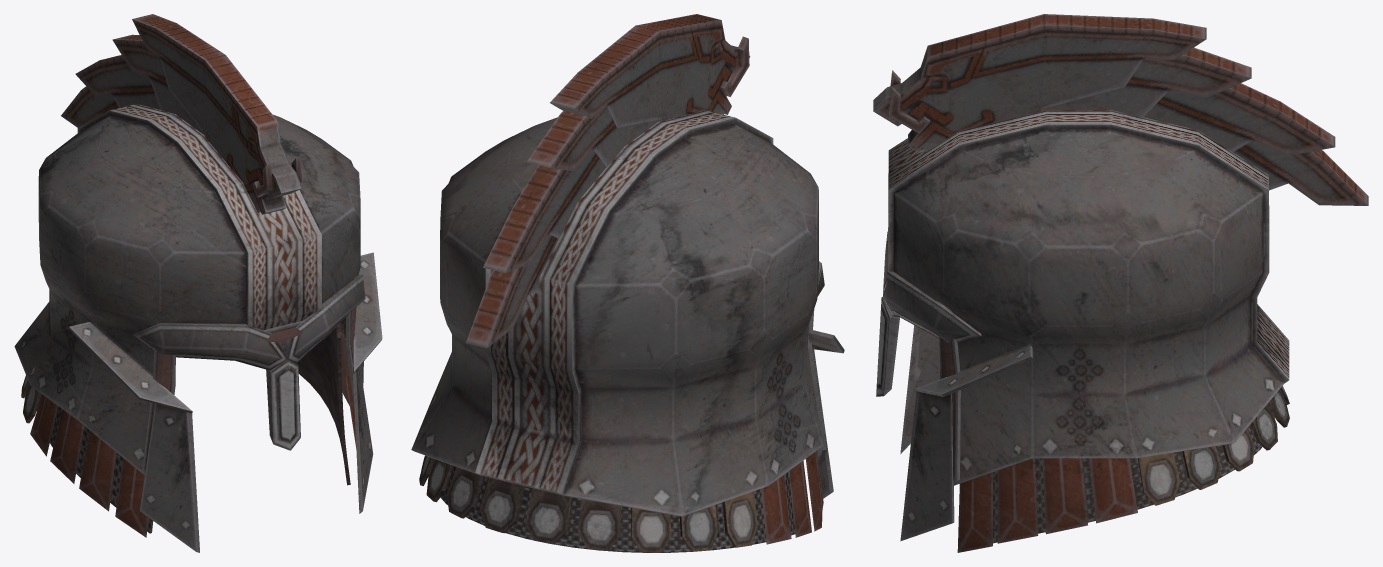
The model's file is sk_dwarf_iron_helmet_elite_d2.fbx.
3 views of the same model, side by side, from view 1: azimuth 30°, elevation 25°; view 2: azimuth 150°, elevation 25°; view 3: azimuth 270°, elevation 25° (orthographic). The views are drawn at different scales.
Visible parts, largest first — view 1: sk_dwarf_iron_helmet_elite_d2; view 2: sk_dwarf_iron_helmet_elite_d2; view 3: sk_dwarf_iron_helmet_elite_d2.
Boxes of the visible parts, x1,y1,x2,y2 form: sk_dwarf_iron_helmet_elite_d2: (14, 14, 382, 552); sk_dwarf_iron_helmet_elite_d2: (411, 14, 844, 552); sk_dwarf_iron_helmet_elite_d2: (873, 14, 1368, 552).
Size of the model in its own units: 0.2896 by 0.3655 by 0.3892.
